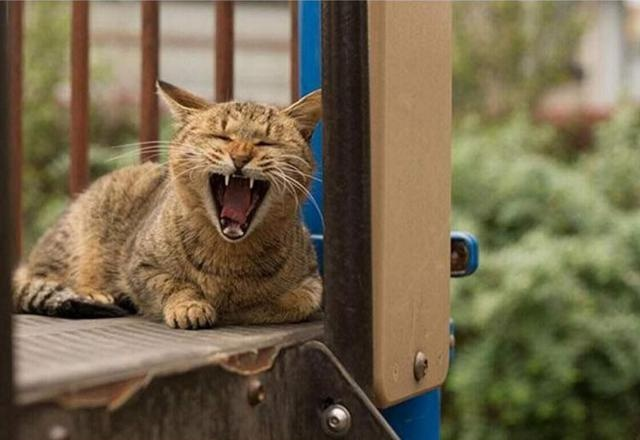cat: (13, 77, 323, 331)
